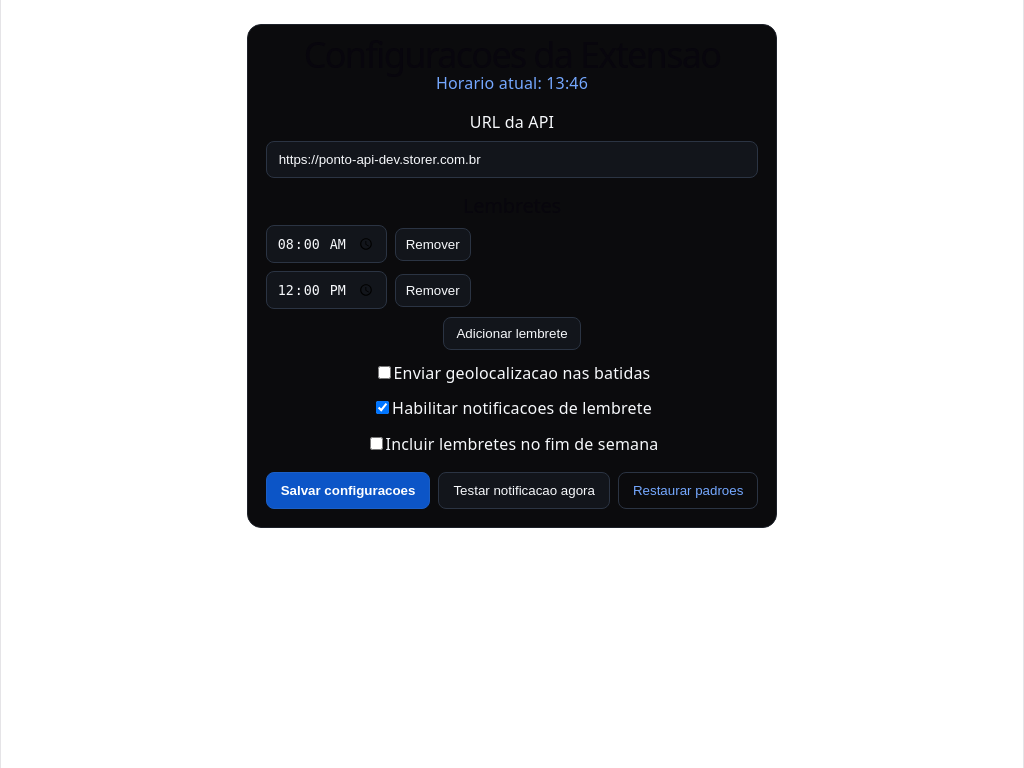
Test case: OptionsPage › nao salva quando URL da API eh invalida
Replace the text in the field labelled "URL da API" with "url-invalida" at [512, 159], box [266,141,758,178]
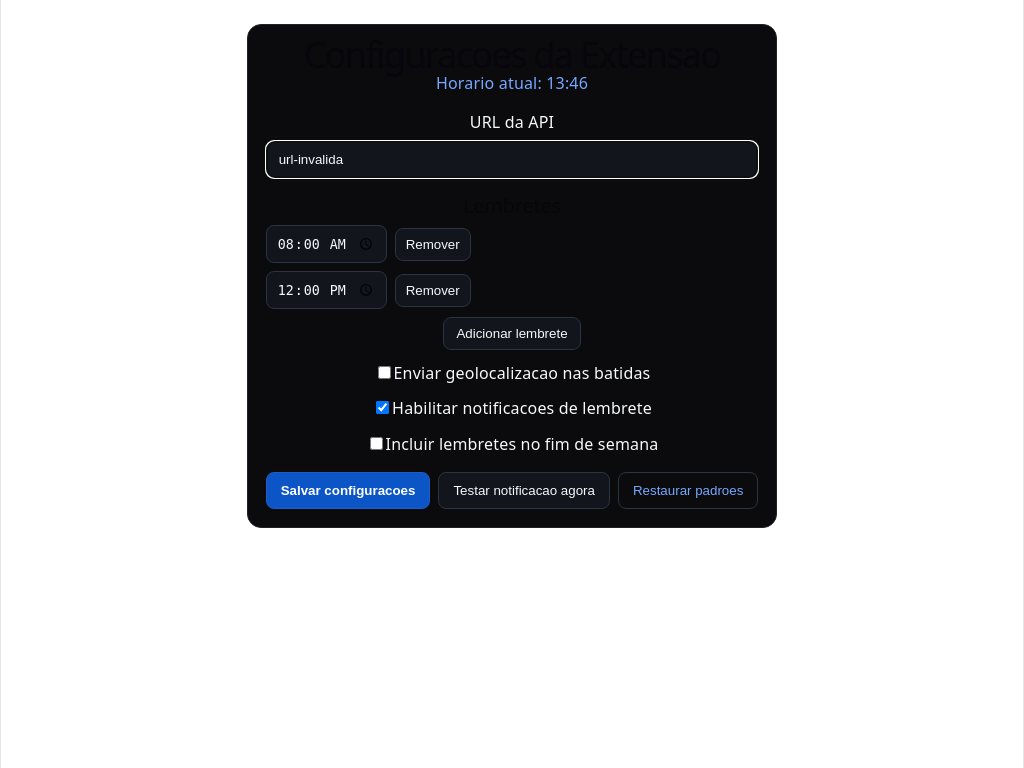
Click the button "Salvar configuracoes" at [348, 490], box [266,472,430,509]
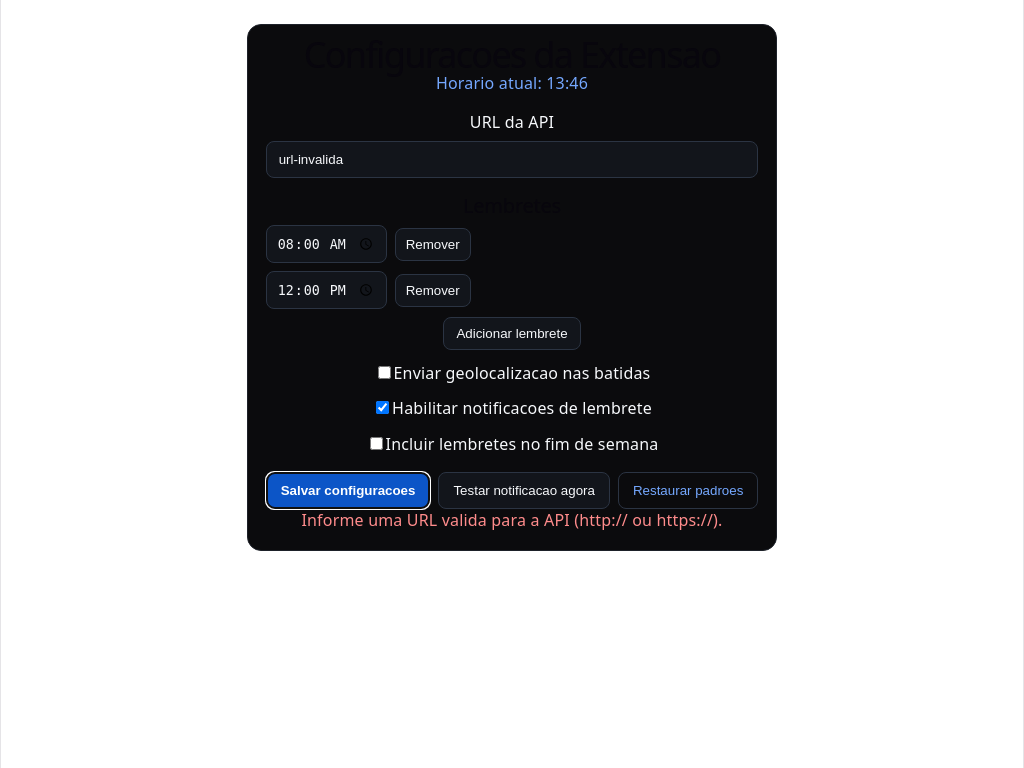
Now the text "Informe uma URL valida para a API (http:// ou https://)." is shown, box [266,509,758,532]
